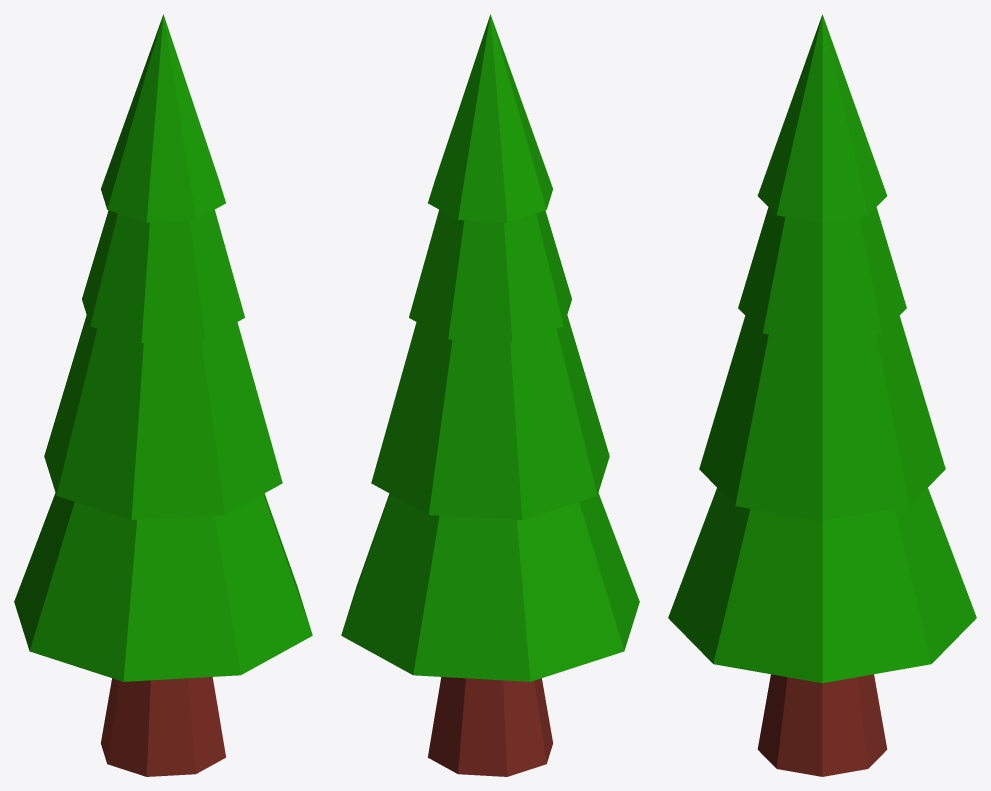
File: Tree.fbx
The picture shows the model from 3 angles, left to right: view 1: azimuth 30°, elevation 25°; view 2: azimuth 150°, elevation 25°; view 3: azimuth 270°, elevation 25°; orthographic projection.
Parts seen in each view (by area): view 1: Cylinder; view 2: Cylinder; view 3: Cylinder.
Boxes of the visible parts, x1,y1,x2,y2 form: Cylinder: (14,14,312,776); Cylinder: (341,14,639,776); Cylinder: (668,14,976,776).
Bounding box in the file's own units: 308 × 808 × 308.
